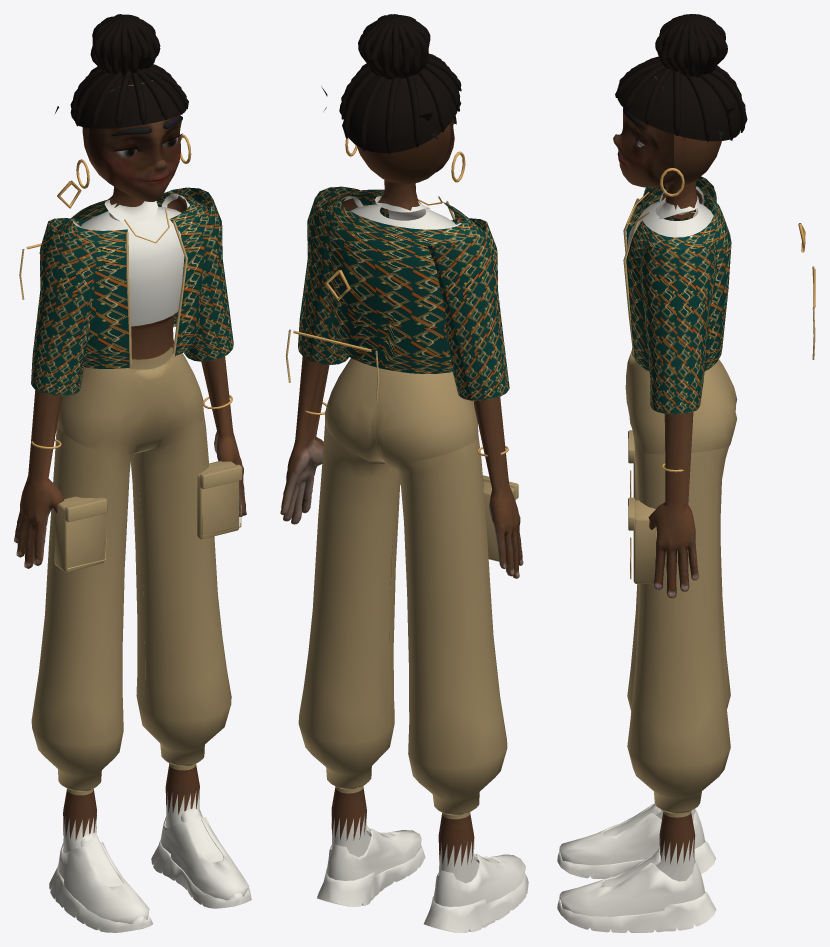
The model's file is explorer-resident.glb.
3 renders of one model, left to right at view 1: azimuth 30°, elevation 25°; view 2: azimuth 150°, elevation 25°; view 3: azimuth 270°, elevation 25°, orthographic. The views are drawn at different scales.
Visible parts, largest first — view 1: Explorer_Resident; view 2: Explorer_Resident; view 3: Explorer_Resident.
Boxes of the visible parts, x1,y1,x2,y2 form: Explorer_Resident: (14,14,251,932); Explorer_Resident: (280,14,528,932); Explorer_Resident: (557,14,815,932).
Bounding box in the file's own units: 0.4481 × 1.67 × 0.4457.
7 materials, 2 textured.
